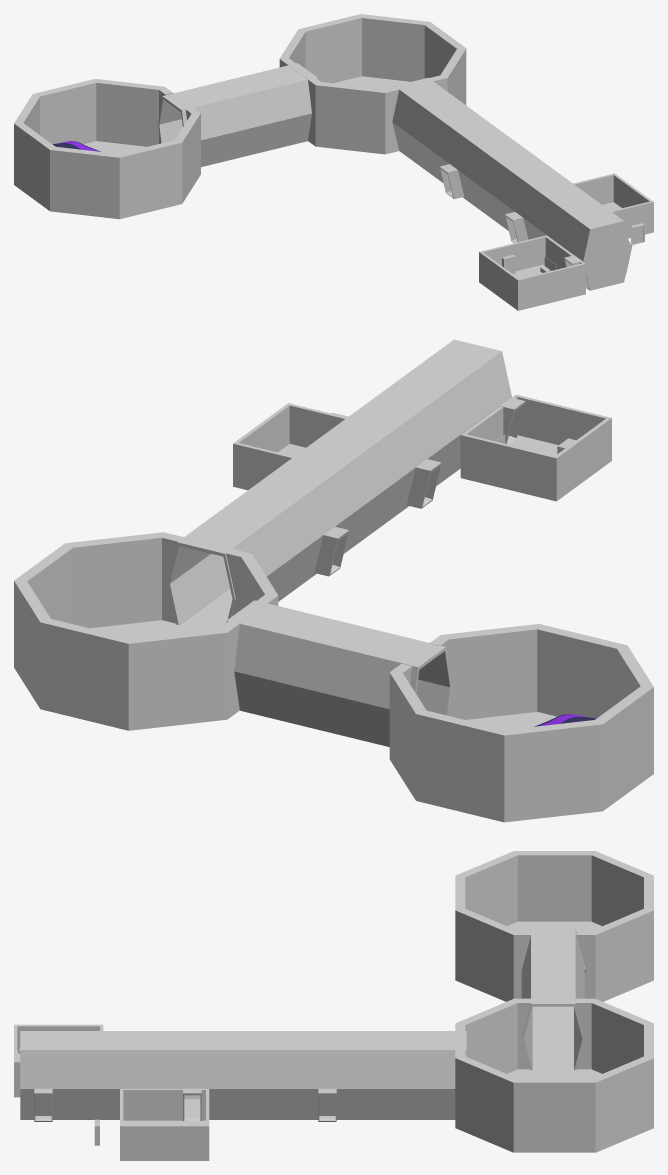
Rendered from Pluto_inside.fbx.
3 views of the same model, one above another, from view 1: azimuth 30°, elevation 25°; view 2: azimuth 150°, elevation 25°; view 3: azimuth 270°, elevation 25° (orthographic). The views are drawn at different scales.
Parts seen in each view (by area): view 1: Cylinder.001, Coridor, Cylinder, Coridor.001, Room_Walls, Room_Walls.001, Door_Frame.002, Door_Frame.001, Cube.002; view 2: Cylinder.001, Coridor, Cylinder, Coridor.001, Room_Walls, Room_Walls.001, Door_Frame.002, Door_Frame.001, Door_Frame; view 3: Coridor, Cylinder, Cylinder.001, Coridor.001, Room_Walls.001, Room_Walls.
Part boxes in pixels (<box>): Cylinder.001: <box>14,79,200,219</box>; Coridor: <box>392,78,630,290</box>; Cylinder: <box>279,14,466,154</box>; Coridor.001: <box>158,63,317,166</box>; Room_Walls: <box>479,235,585,310</box>; Room_Walls.001: <box>573,173,653,238</box>; Door_Frame.002: <box>439,164,464,199</box>; Door_Frame.001: <box>505,212,528,243</box>; Cube.002: <box>502,223,644,273</box>; Cylinder.001: <box>389,624,653,822</box>; Coridor: <box>167,339,511,629</box>; Cylinder: <box>14,532,278,730</box>; Coridor.001: <box>226,600,451,746</box>; Room_Walls: <box>460,394,611,501</box>; Room_Walls.001: <box>233,403,346,490</box>; Door_Frame.002: <box>314,526,349,576</box>; Door_Frame.001: <box>407,459,441,508</box>; Door_Frame: <box>500,397,525,444</box>; Coridor: <box>20,1031,466,1119</box>; Cylinder: <box>455,998,653,1152</box>; Cylinder.001: <box>455,851,653,1001</box>; Coridor.001: <box>521,928,584,1070</box>; Room_Walls.001: <box>120,1089,209,1160</box>; Room_Walls: <box>14,1024,103,1097</box>.
Bounding box in the file's own units: 1912 × 261 × 2156.
